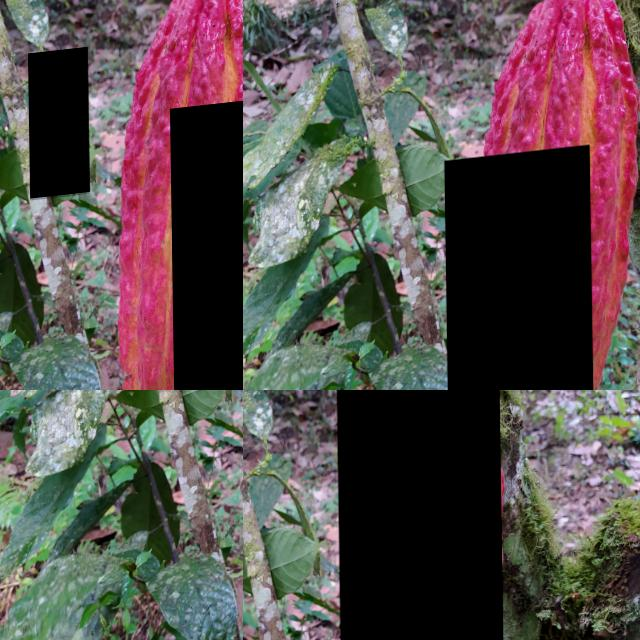Monilia: (443, 154, 592, 390)
Sana: (336, 390, 504, 640), (169, 96, 243, 390), (28, 53, 89, 204)
